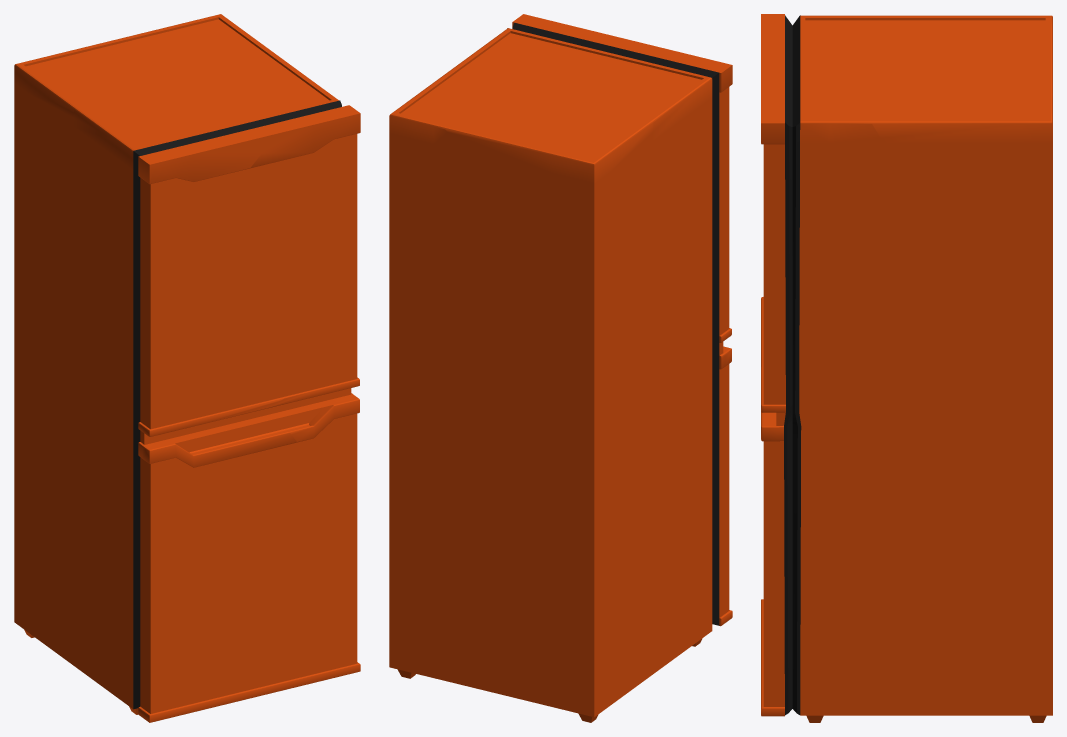
The model's file is Fridge CD.fbx.
3 renders of one model, left to right at view 1: azimuth 30°, elevation 25°; view 2: azimuth 150°, elevation 25°; view 3: azimuth 270°, elevation 25°, orthographic. The views are drawn at different scales.
Visible parts, largest first — view 1: Fridge; view 2: Fridge; view 3: Fridge.
Part boxes in pixels (x1,y1,x2,y2): Fridge: [14, 14, 360, 722]; Fridge: [389, 14, 732, 722]; Fridge: [761, 14, 1052, 722].
Bounding box in the file's own units: 51 × 132 × 57.5.
